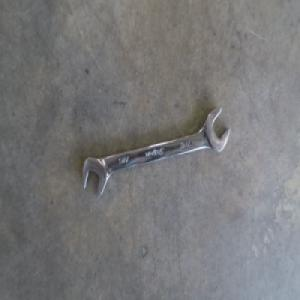Wrench: (82, 106, 229, 198)
